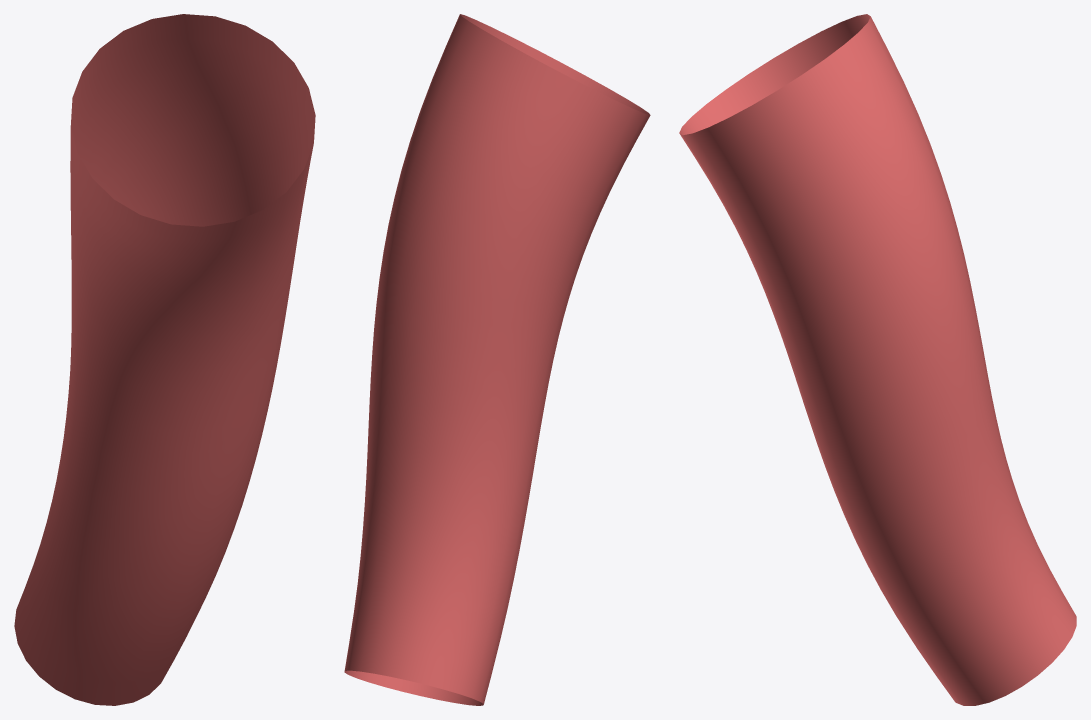
File: Anterior_division_internal_iliac_artery_left.glb
The picture shows the model from 3 angles, left to right: view 1: azimuth 30°, elevation 25°; view 2: azimuth 150°, elevation 25°; view 3: azimuth 270°, elevation 25°; orthographic projection. The views are drawn at different scales.
Parts seen in each view (by area): view 1: Anterior_division_of_internal_iliac_artery.l_BezierCurve.268; view 2: Anterior_division_of_internal_iliac_artery.l_BezierCurve.268; view 3: Anterior_division_of_internal_iliac_artery.l_BezierCurve.268.
Boxes of the visible parts, x1=… form: Anterior_division_of_internal_iliac_artery.l_BezierCurve.268: x1=14, y1=14, x2=315, y2=705; Anterior_division_of_internal_iliac_artery.l_BezierCurve.268: x1=344, y1=14, x2=650, y2=705; Anterior_division_of_internal_iliac_artery.l_BezierCurve.268: x1=679, y1=14, x2=1076, y2=705.
Bounding box in the file's own units: 0.00635 × 0.0187 × 0.0101.
